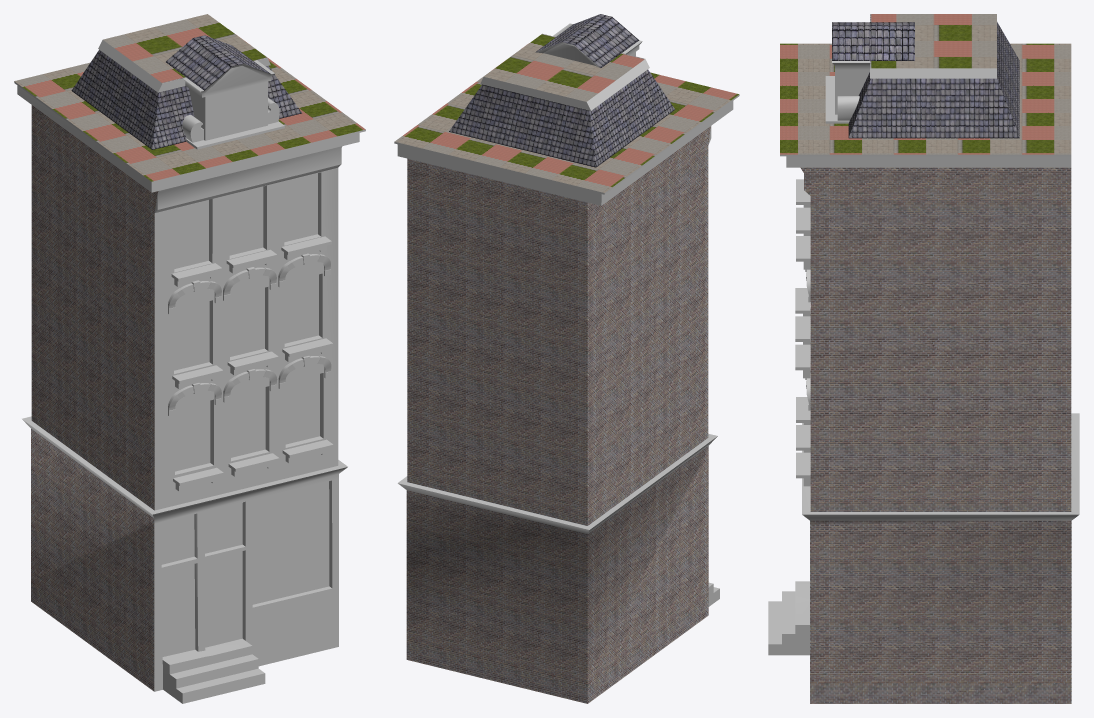
File: city3_h18.fbx
3 renders of one model, left to right at view 1: azimuth 30°, elevation 25°; view 2: azimuth 150°, elevation 25°; view 3: azimuth 270°, elevation 25°, orthographic. The views are drawn at different scales.
Parts seen in each view (by area): view 1: Default_Layer; view 2: Default_Layer; view 3: Default_Layer.
Part boxes in pixels (<box>): Default_Layer: <box>14,14,365,703</box>; Default_Layer: <box>394,14,739,703</box>; Default_Layer: <box>768,14,1079,703</box>.
Size of the model in its own units: 549 by 1460 by 652.
